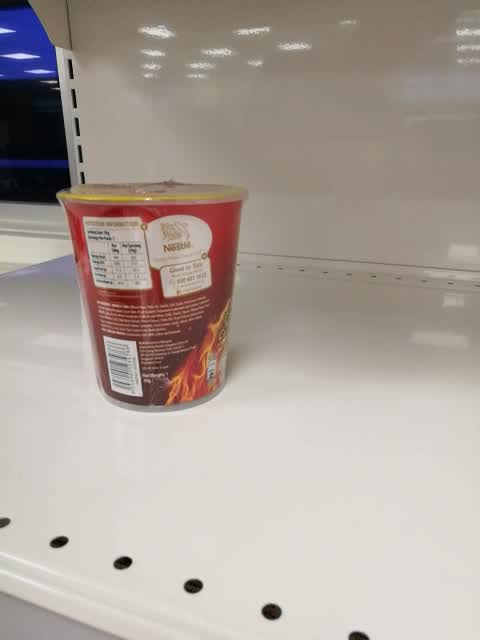maggi: (56, 179, 249, 413)
